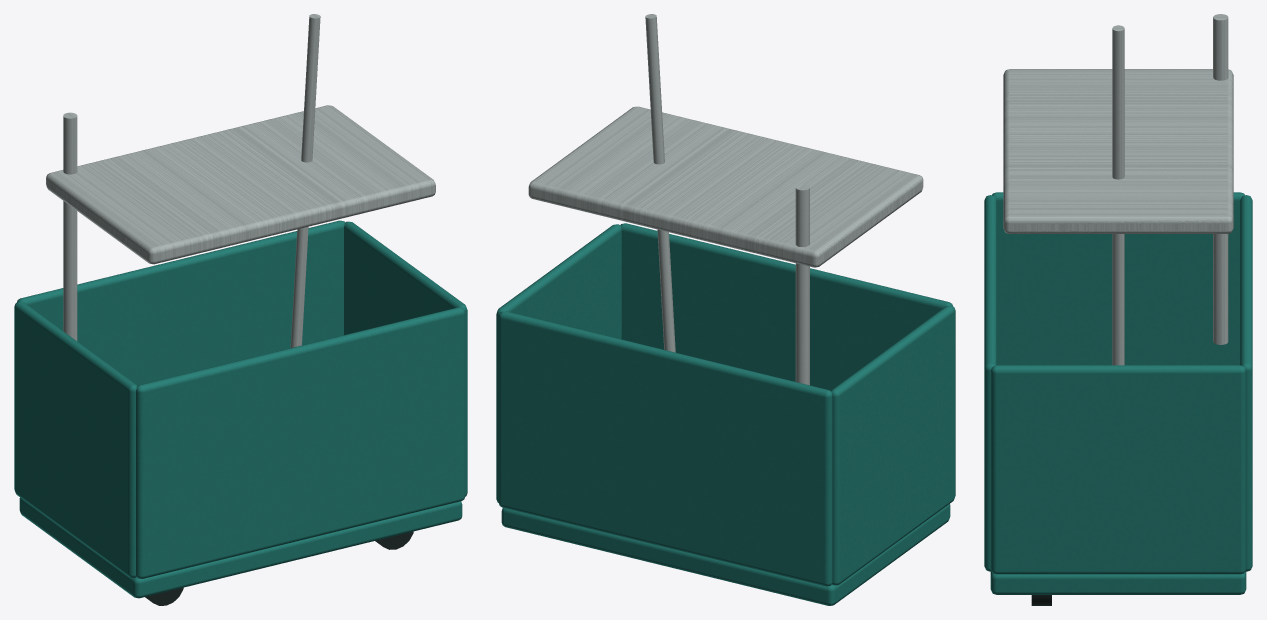
The model's file is detail-cleaning-cart-1.glb.
The picture shows the model from 3 angles, left to right: view 1: azimuth 30°, elevation 25°; view 2: azimuth 150°, elevation 25°; view 3: azimuth 270°, elevation 25°; orthographic projection. The views are drawn at different scales.
Parts seen in each view (by area): view 1: bucket_wall (×4), upper_tray, bucket_base, mop_handle, handle; view 2: bucket_wall (×4), upper_tray, bucket_base, mop_handle, handle; view 3: bucket_wall (×4), upper_tray, bucket_base, mop_handle, handle.
Boxes of the visible parts, x1,y1,x2,y2 form: bucket_wall (×4): [14, 220, 467, 578]; upper_tray: [46, 105, 435, 264]; bucket_base: [19, 497, 462, 598]; mop_handle: [290, 14, 320, 347]; handle: [63, 112, 77, 340]; bucket_wall (×4): [496, 223, 955, 586]; upper_tray: [528, 106, 923, 267]; bucket_base: [501, 504, 950, 605]; mop_handle: [645, 14, 675, 352]; handle: [795, 184, 809, 385]; bucket_wall (×4): [984, 192, 1252, 574]; upper_tray: [1003, 69, 1233, 233]; bucket_base: [990, 571, 1246, 594]; mop_handle: [1112, 25, 1124, 365]; handle: [1213, 14, 1228, 344].
Bounding box in the file's own units: 0.825 × 1.2 × 0.525.
4 materials, 4 textured.
